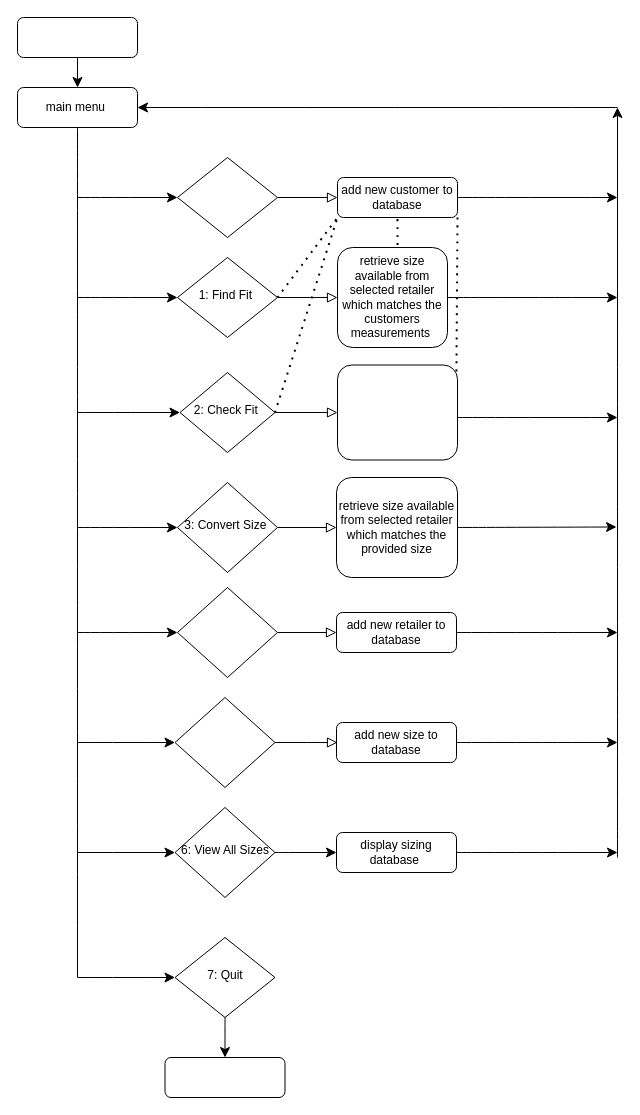
This 640x1115 diagram has some shape labels left out. The centre of each missing label's shape, as x and y in pixels:
0: Add Profile: point (227, 197)
4: Add Retailer: point (227, 632)
5: Add Size: point (224, 742)
detemine whether the selected size's dimensions match the customers measurements: point (397, 412)
exit application: point (224, 1077)
run application: point (77, 37)
